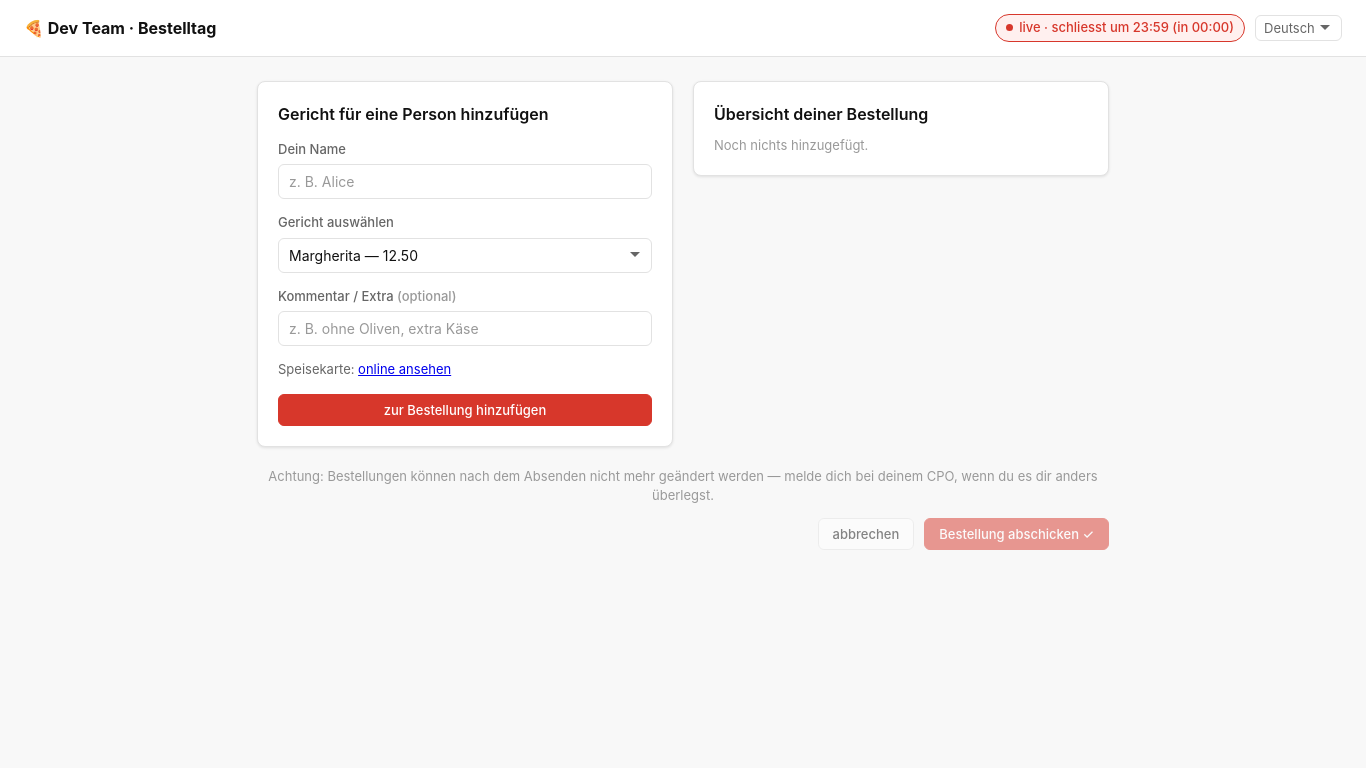
Test: TeamOrderPage › translation › translates the closed-session banner and refreshes the status
The width and height of the screenshot is (1366, 768).
Type "Anna" into the field labelled "Dein Name".
click(465, 182); type("Anna")  # box left=278, top=164, right=652, bottom=199
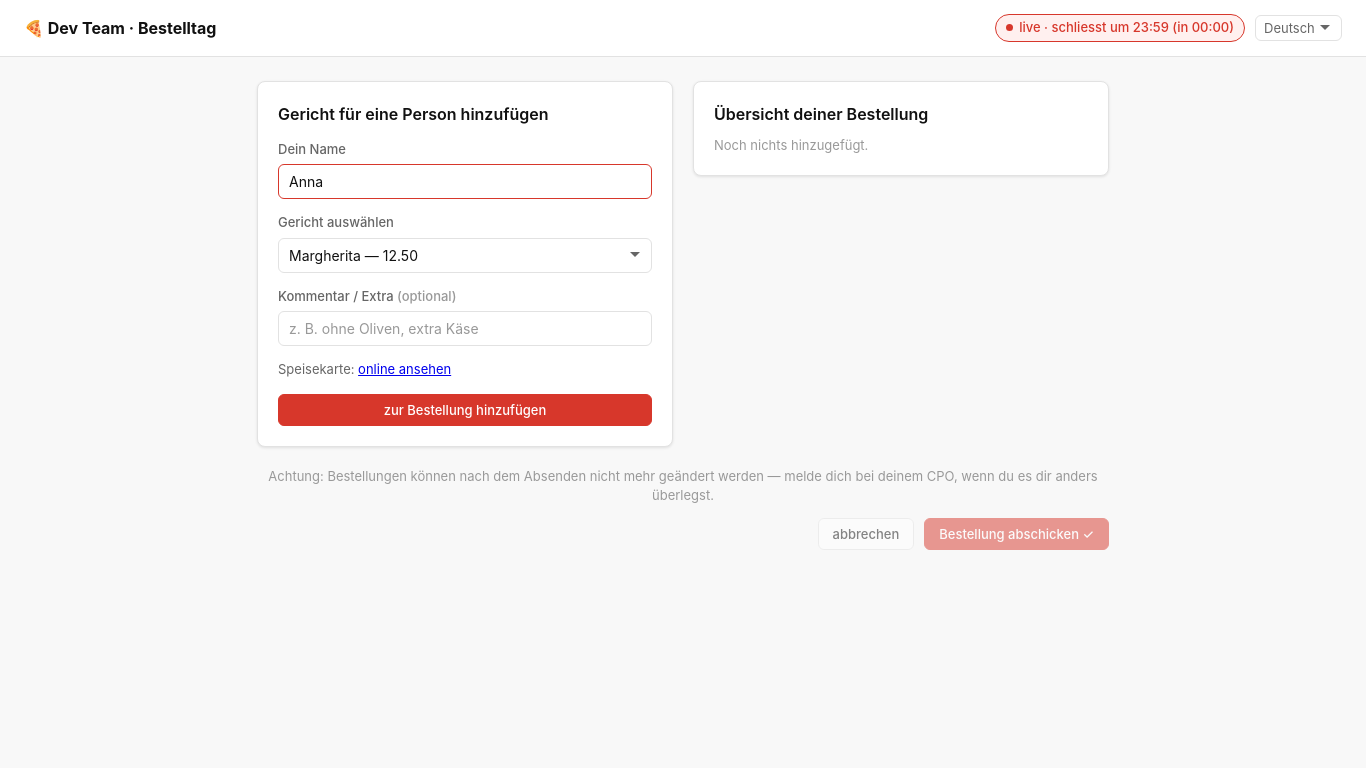
Click the button "zur Bestellung hinzufügen".
click(465, 410)  # box left=278, top=394, right=652, bottom=426
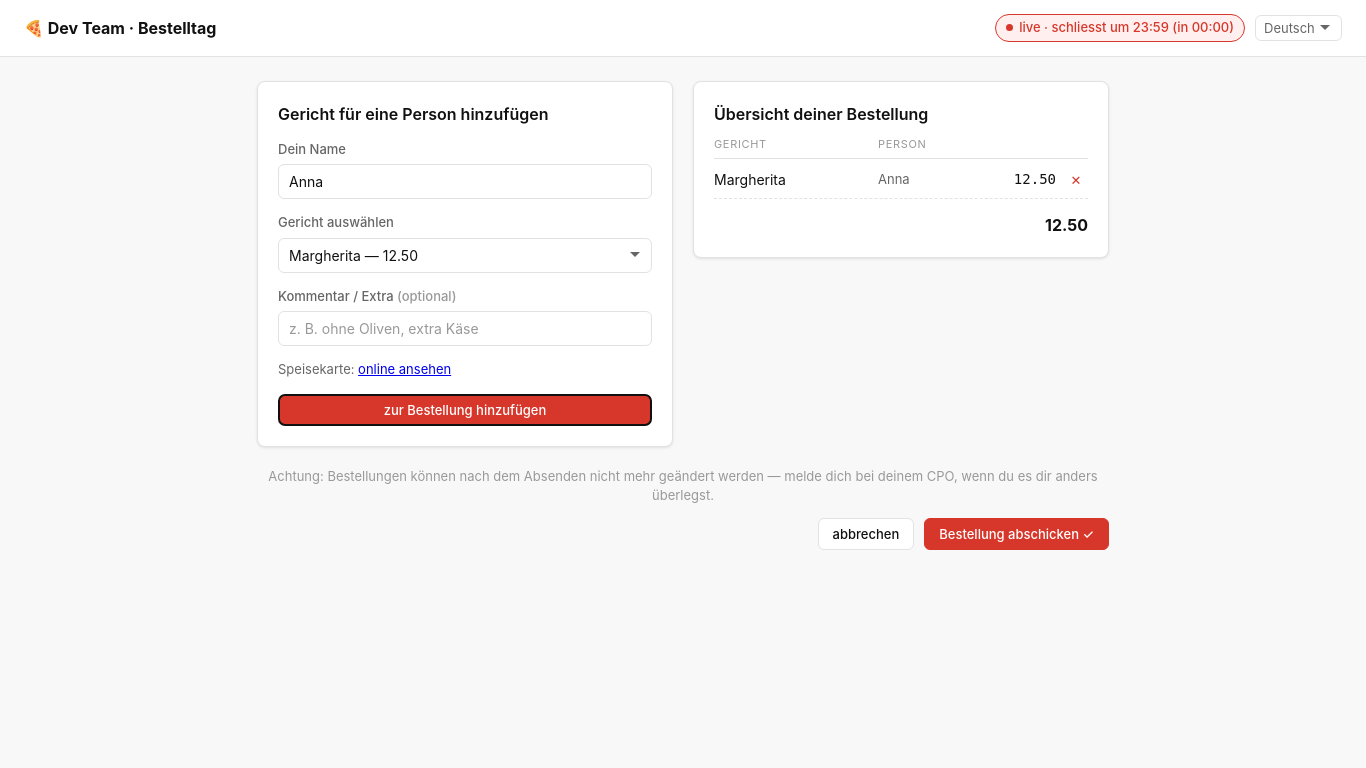
Click the button "Bestellung abschicken ✓".
click(1017, 534)  # box left=924, top=518, right=1109, bottom=550
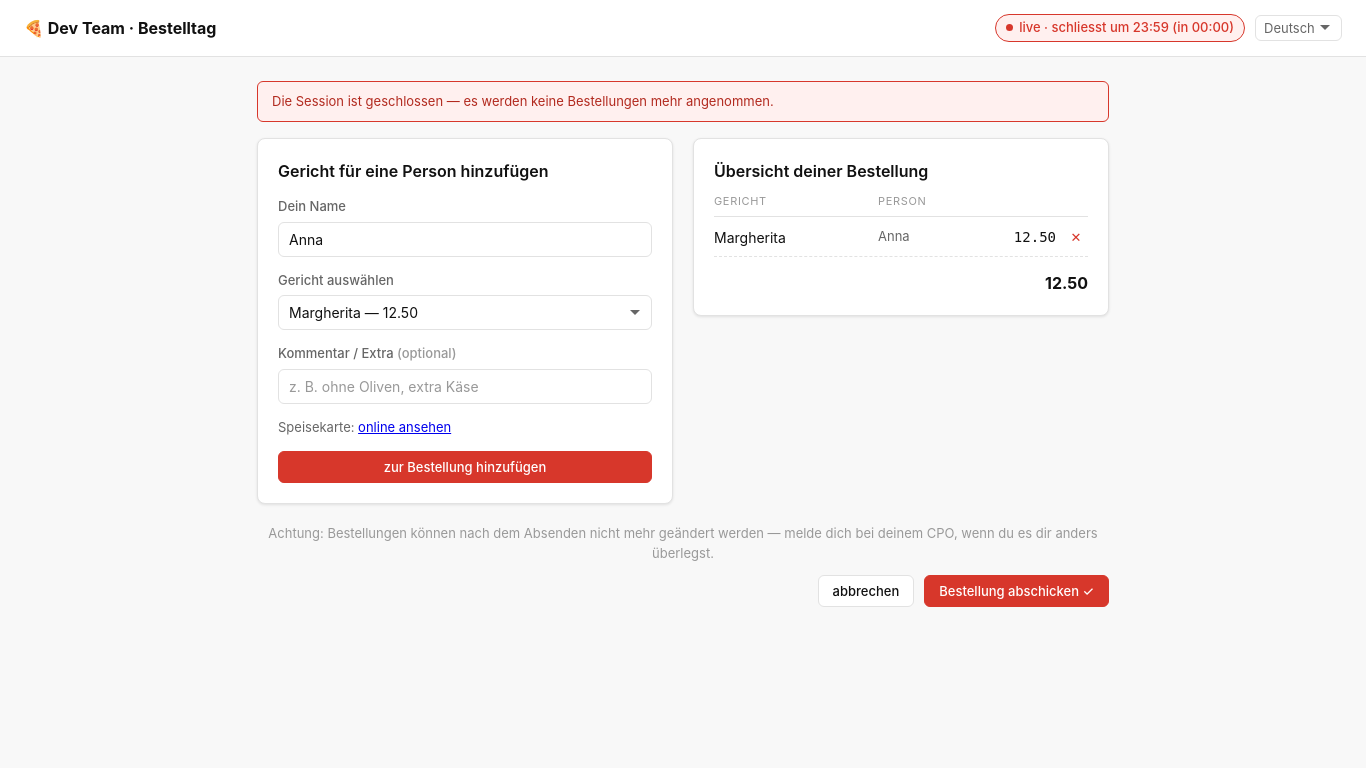
Expected: the text "keine Bestellungen mehr angenommen" is shown, left=272, top=92, right=774, bottom=108
